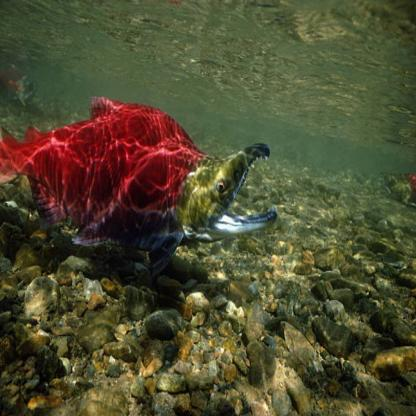sockeye: (10, 109, 273, 250)
